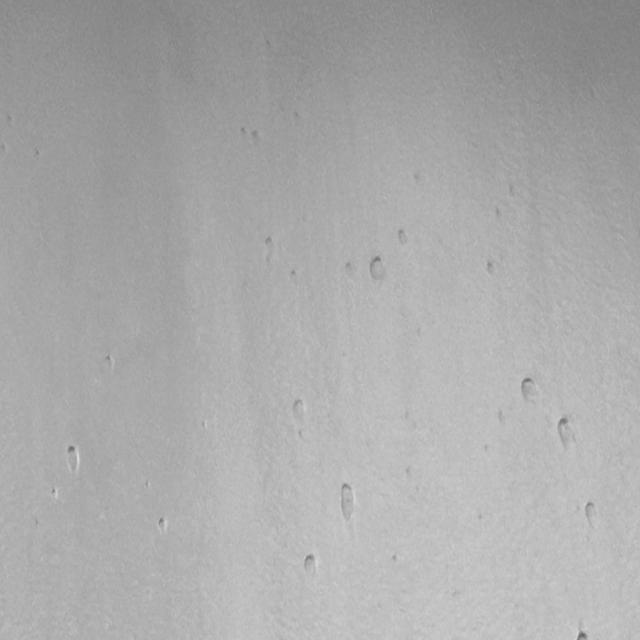pin holes: (335, 480, 361, 523), (554, 415, 580, 453), (518, 376, 546, 409), (288, 396, 310, 429), (580, 499, 604, 529), (62, 444, 83, 476), (367, 255, 390, 282), (300, 553, 320, 579), (261, 235, 279, 262), (248, 126, 265, 150), (394, 228, 412, 249), (482, 258, 499, 280), (101, 354, 117, 375), (341, 259, 358, 278), (155, 515, 171, 534), (236, 125, 250, 144), (576, 628, 594, 640), (289, 267, 301, 284), (142, 477, 154, 493), (50, 485, 60, 502), (32, 148, 44, 162), (405, 464, 412, 483)
